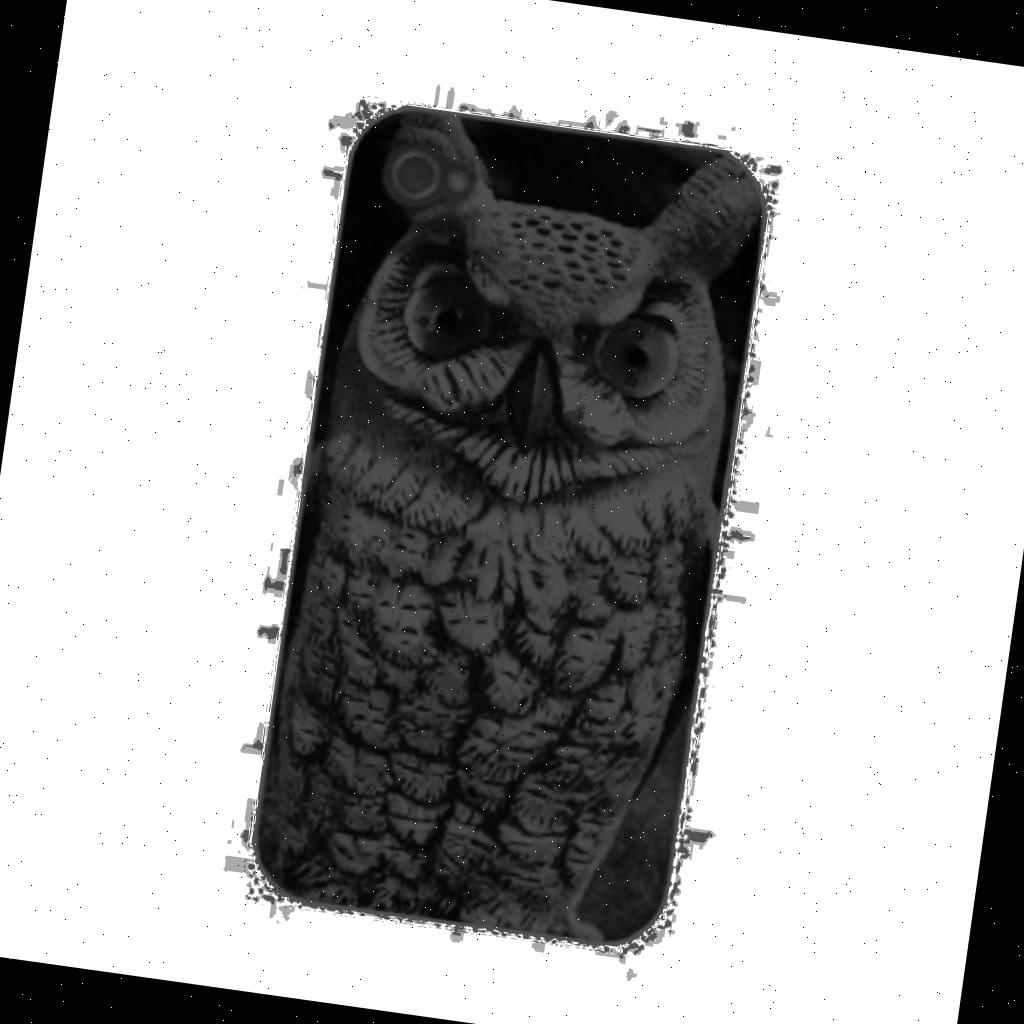Owl: (250, 104, 776, 952)
